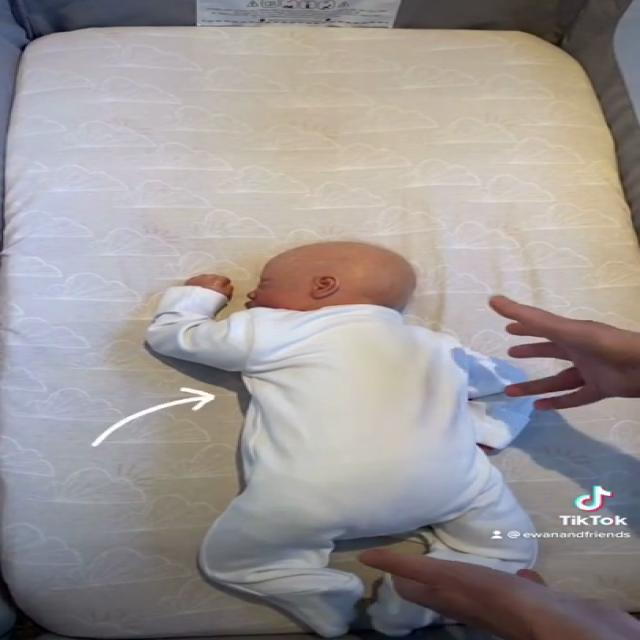baby: (133, 239, 562, 640)
